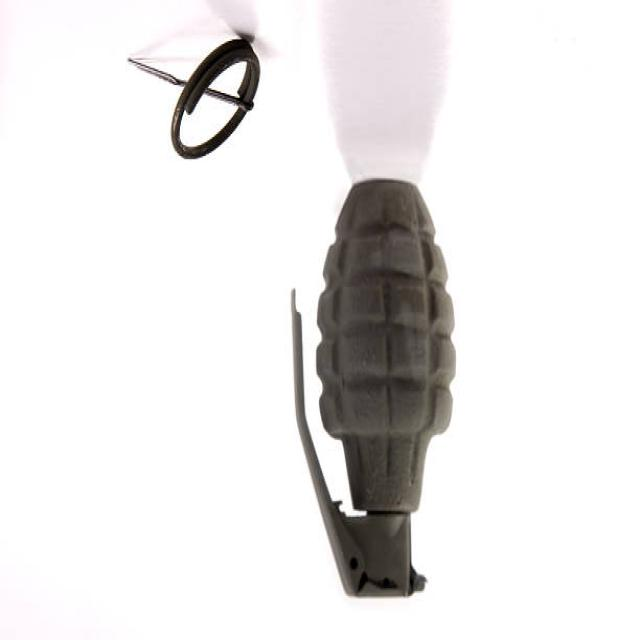grenade: (286, 174, 459, 604)
